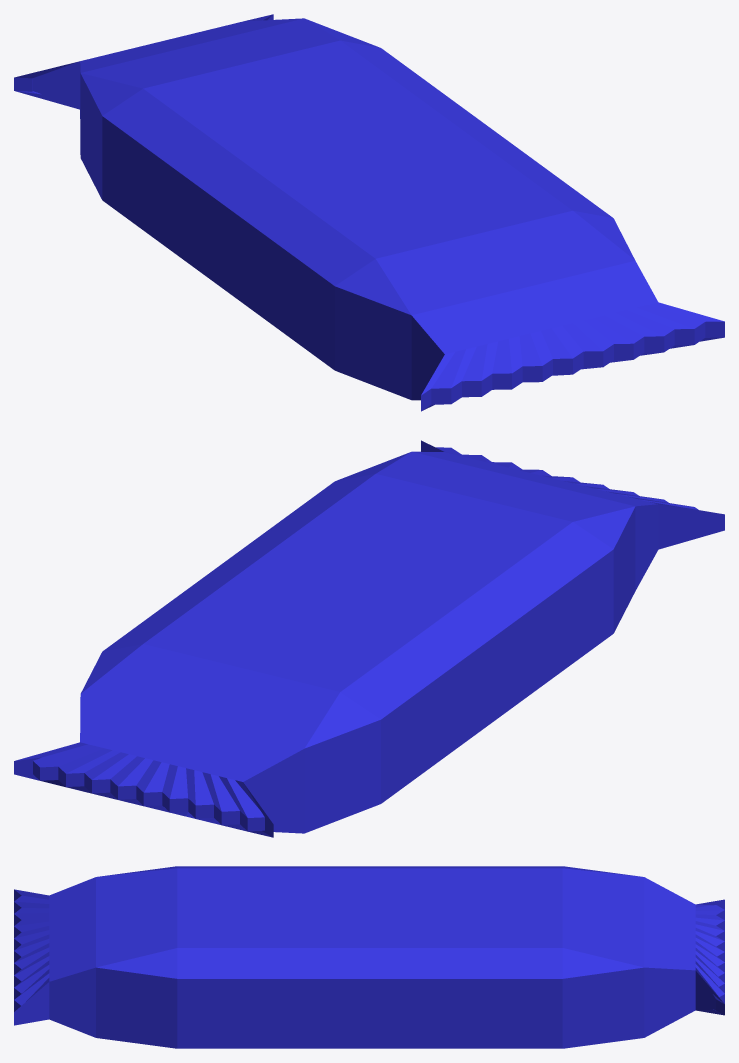
File: BlueBars.fbx
The picture shows the model from 3 angles, top to bottom: view 1: azimuth 30°, elevation 25°; view 2: azimuth 150°, elevation 25°; view 3: azimuth 270°, elevation 25°; orthographic projection. The views are drawn at different scales.
Parts seen in each view (by area): view 1: Cube.044; view 2: Cube.044; view 3: Cube.044.
Part boxes in pixels (bbox=[...]): Cube.044: bbox=[14, 14, 724, 411]; Cube.044: bbox=[14, 440, 724, 837]; Cube.044: bbox=[14, 866, 724, 1048].
Bounding box in the file's own units: 179 × 67.22 × 438.
